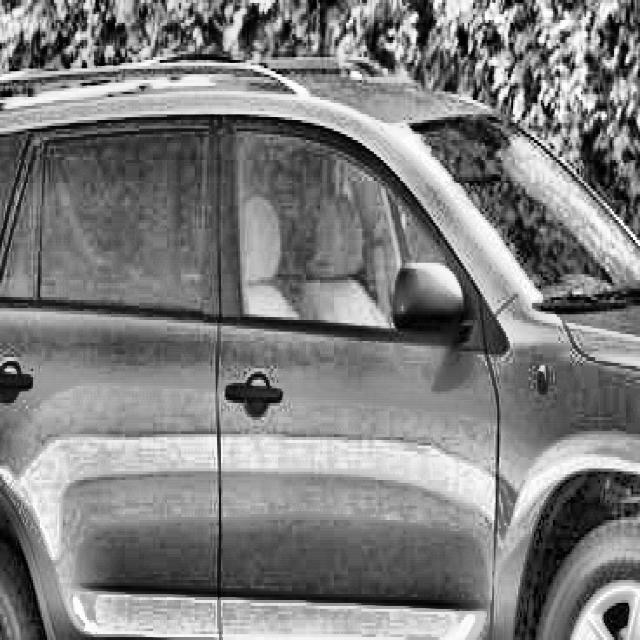light_vehicle: (0, 51, 640, 640)
